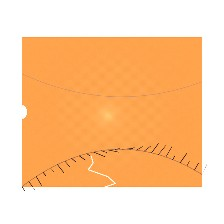foreign_body_visible: (93, 72, 123, 96)
